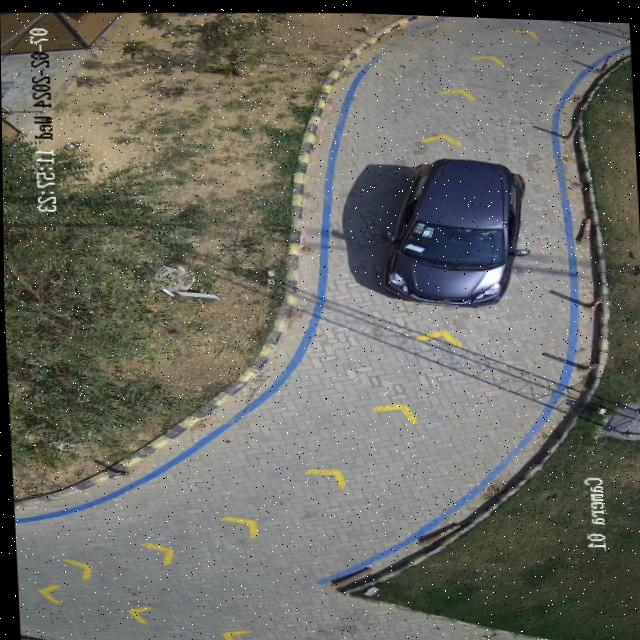car: (385, 155, 526, 302)
